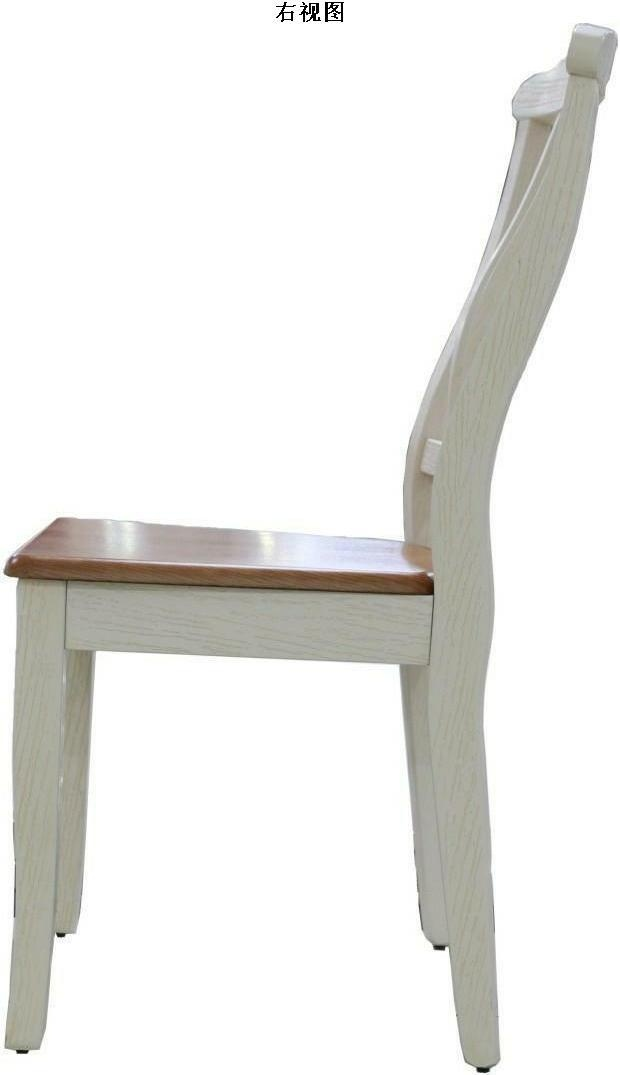obstacle: (2, 0, 617, 556), (3, 654, 473, 1074), (486, 60, 618, 1074)
